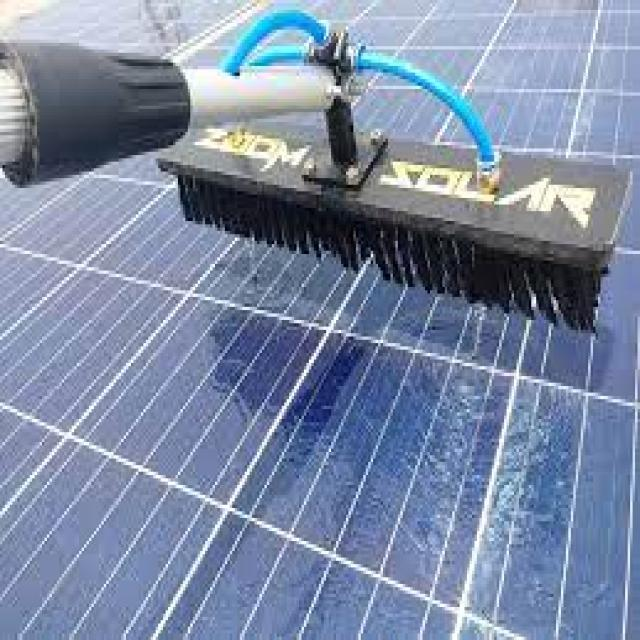dust-solar-panel: (0, 0, 640, 637)
